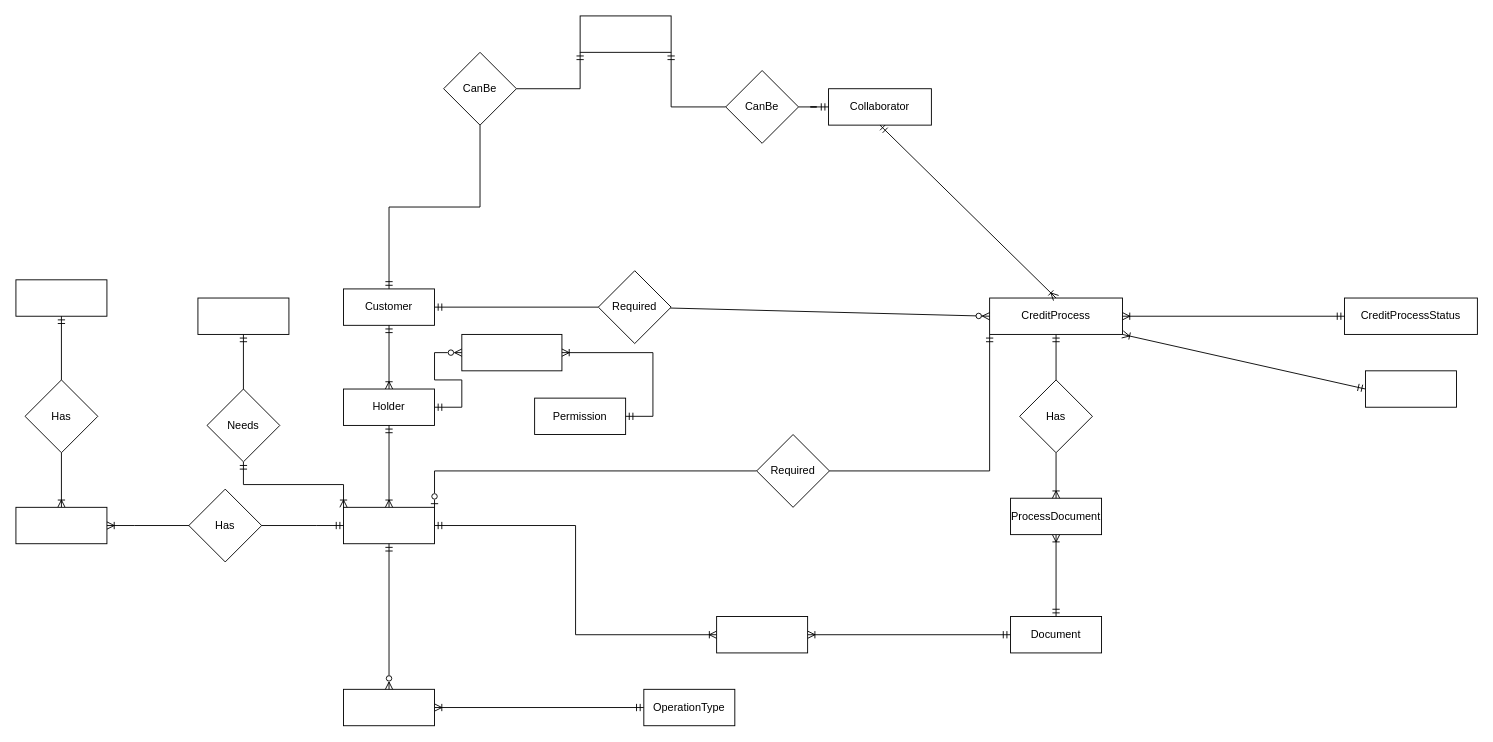
Image size: 1493x742. Some labels were removed from this diagram. Here are the shapes that lost their labels. From the top down, the centre of each, then its label:
(625,33): User
(61,297): CardType
(243,315): AccountType
(511,352): HolderPermission
(1410,388): Credit
(61,525): Card
(389,525): Account
(762,634): AccountDocument
(389,707): Movement
